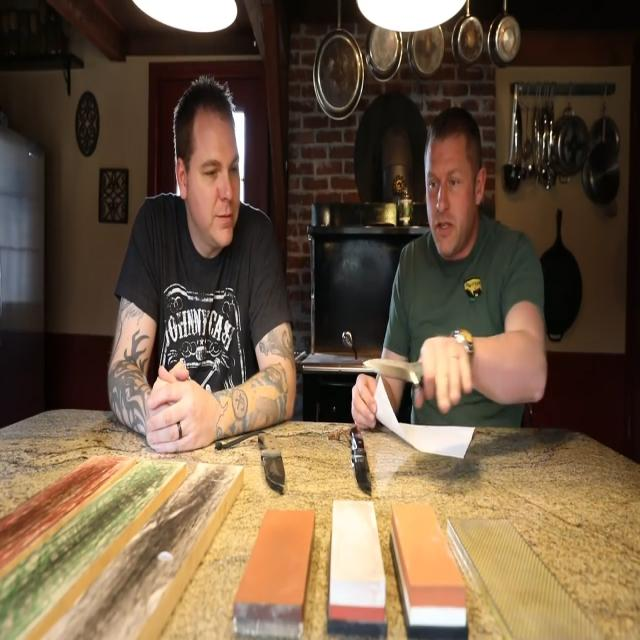knife: (344, 423, 376, 499), (256, 430, 290, 493), (365, 355, 427, 389)
